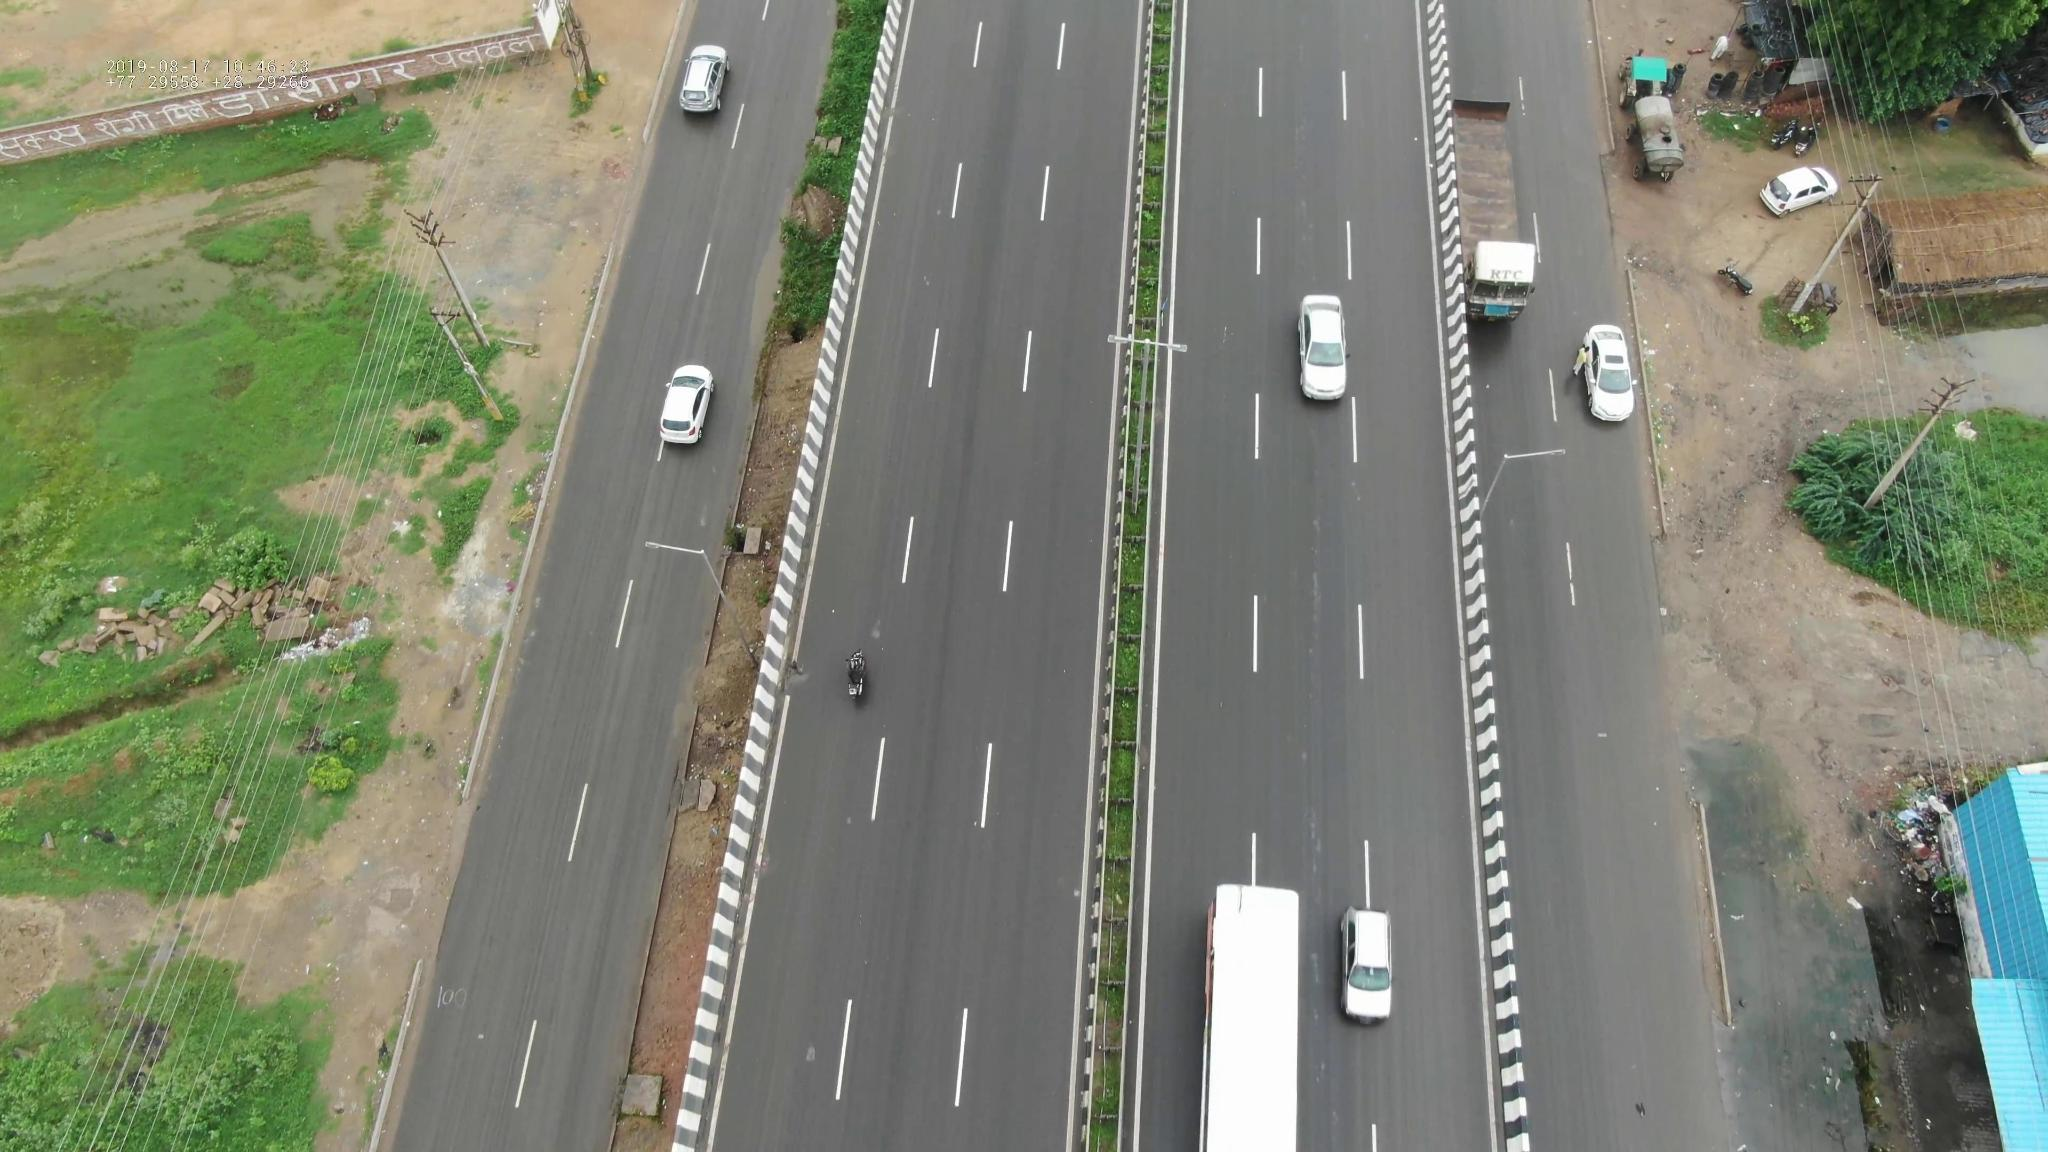Muddy_road: (1639, 539, 1739, 727)
